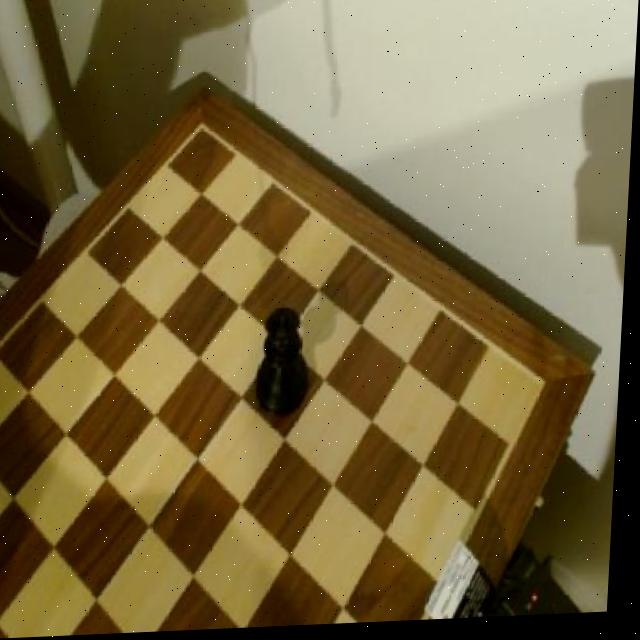black-pawn: (255, 305, 319, 426)
